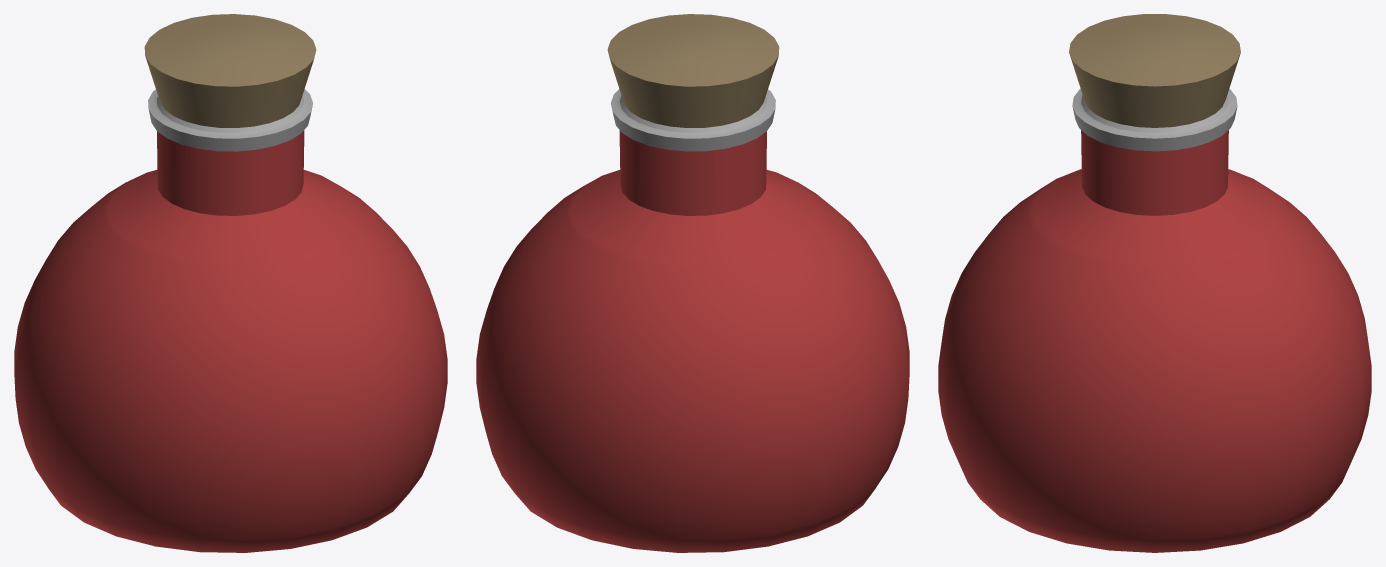
File: mainpotion.fbx
3 views of the same model, side by side, from view 1: azimuth 30°, elevation 25°; view 2: azimuth 150°, elevation 25°; view 3: azimuth 270°, elevation 25° (orthographic).
Visible parts, largest first — view 1: pSphere1; view 2: pSphere1; view 3: pSphere1.
Boxes of the visible parts, box(x1,y1,x2,y2) form: pSphere1: box(14, 14, 447, 552); pSphere1: box(476, 14, 909, 552); pSphere1: box(938, 14, 1371, 552).
Size of the model in its own units: 3.43 by 3.8 by 3.44.
